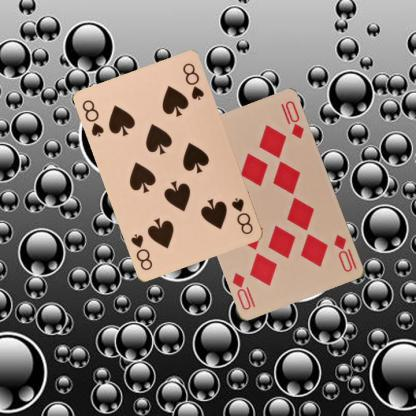10d: (332, 232, 359, 273)
8s: (80, 97, 106, 139), (229, 195, 255, 236)
